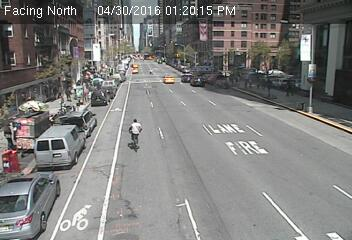neg: (314, 66, 336, 95), (303, 42, 320, 65), (185, 19, 200, 39), (24, 44, 38, 63), (116, 22, 130, 41), (74, 41, 88, 58), (282, 27, 296, 44), (96, 25, 108, 41), (258, 24, 269, 39), (1, 48, 11, 63), (53, 57, 63, 71), (146, 27, 154, 38), (241, 26, 249, 36), (66, 41, 73, 51)
pos: (122, 115, 147, 149), (282, 78, 297, 98), (80, 86, 92, 103), (64, 87, 75, 102), (261, 78, 269, 90), (247, 78, 255, 89)
